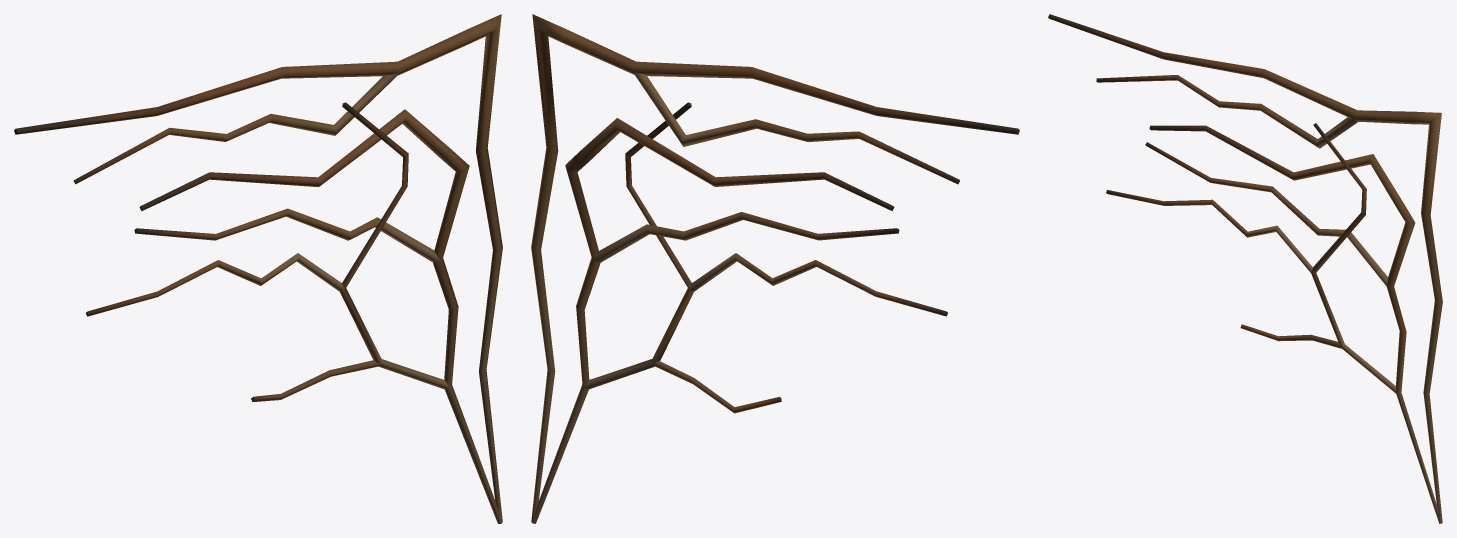
Rendered from Liane_5.FBX.
3 views of the same model, side by side, from view 1: azimuth 30°, elevation 25°; view 2: azimuth 150°, elevation 25°; view 3: azimuth 330°, elevation 25° (orthographic). The views are drawn at different scales.
Visible parts, largest first — view 1: Ivy_005; view 2: Ivy_005; view 3: Ivy_005.
Part boxes in pixels (x1,y1,x2,y2): Ivy_005: (14, 14, 502, 523); Ivy_005: (531, 14, 1019, 523); Ivy_005: (1048, 14, 1442, 523).
Bounding box in the file's own units: 1054 × 1060 × 56.92.
